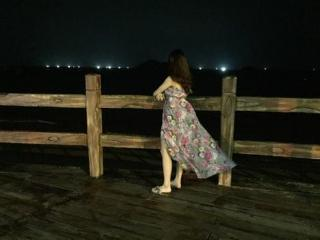sling: (160, 74, 238, 179)
